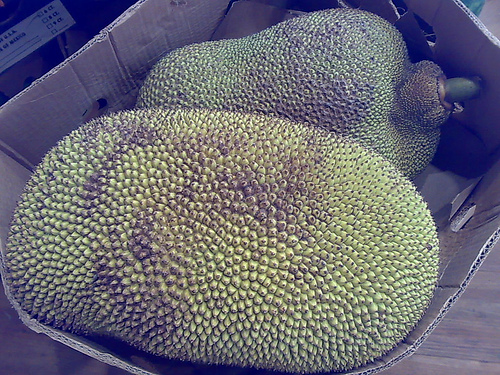jackfruit: (3, 107, 440, 372), (136, 6, 453, 175)
